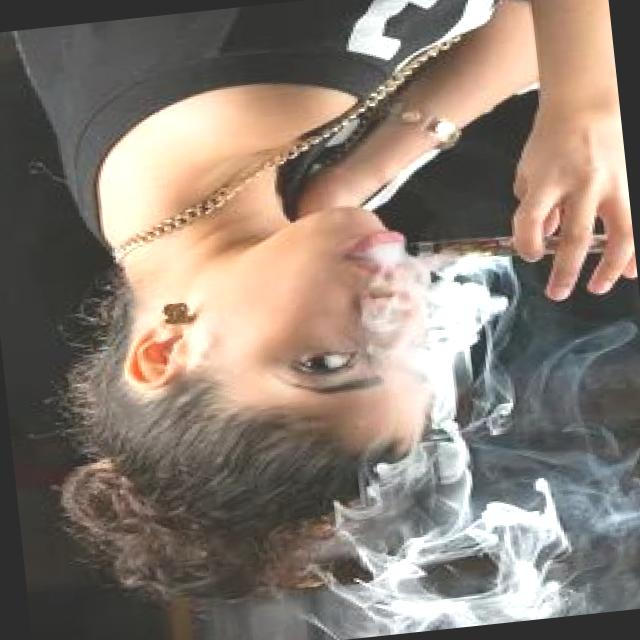smoke: (404, 214, 626, 278)
